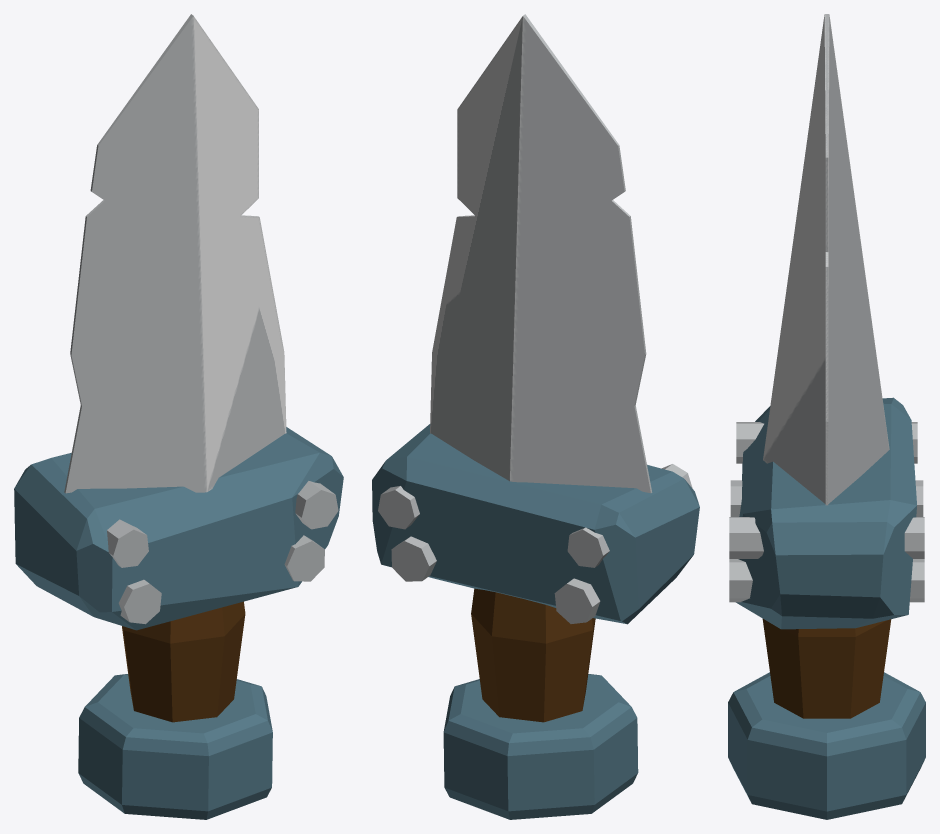
Rendered from SimpleSword.fbx.
3 views of the same model, side by side, from view 1: azimuth 30°, elevation 25°; view 2: azimuth 150°, elevation 25°; view 3: azimuth 270°, elevation 25° (orthographic).
Visible parts, largest first — view 1: SimpleSword; view 2: SimpleSword; view 3: SimpleSword.
Boxes of the visible parts, x1,y1,x2,y2 form: SimpleSword: (14, 14, 343, 819); SimpleSword: (372, 14, 699, 819); SimpleSword: (728, 14, 925, 819).
Bounding box in the file's own units: 0.4997 × 1.35 × 0.312.
